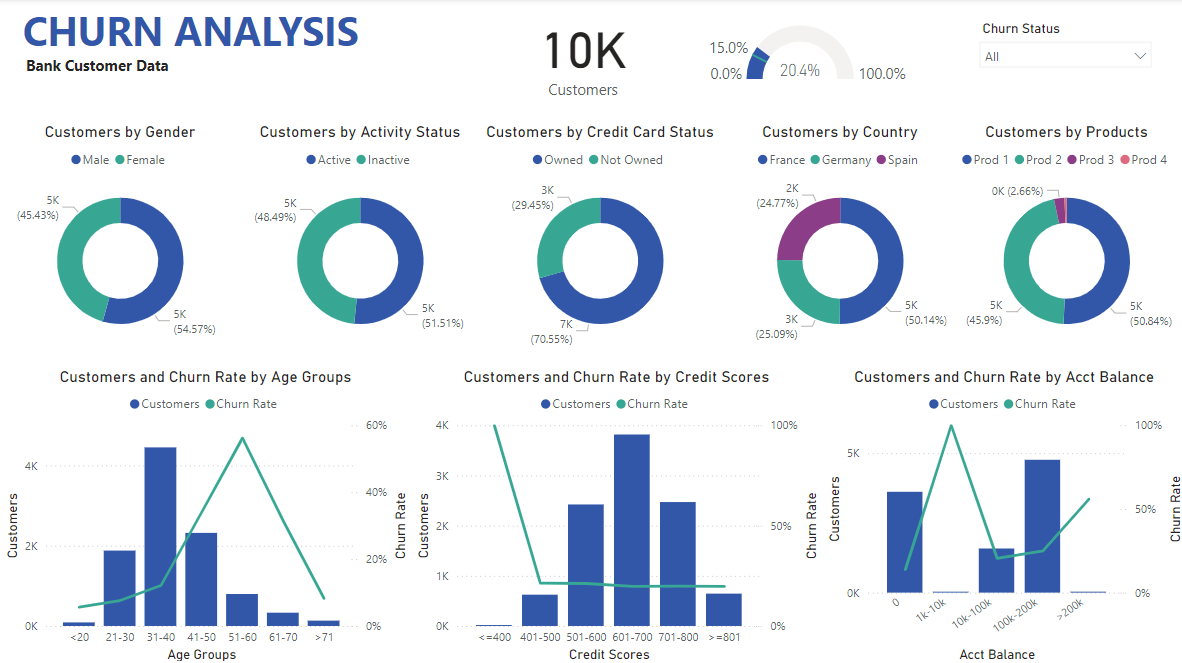

The dashboard page shown, as its layout file describes it:
{"tool":"powerbi","page":{"name":"Bank Customer Data Churn Analysis","canvas":[1280,720],"ordinal":0},"visuals":[{"type":"card","fields":{"Values":["Customer Data.Customers"]},"box":[553.8,4.9,150.6,110.1],"z":0},{"type":"donutChart","fields":{"Category":["Customer Data.Gender"],"Y":["Customer Data.Customers"]},"box":[0,134.4,259.1,249.4],"z":1000},{"type":"donutChart","fields":{"Category":["Customer Data.Activity Status"],"Y":["Customer Data.Customers"]},"box":[259.1,134.4,259.1,249.4],"z":2000},{"type":"donutChart","fields":{"Y":["Customer Data.Customers"],"Category":["Customer Data.Credit Card Status"]},"box":[518.2,134.4,259.1,249.4],"z":3000},{"type":"donutChart","fields":{"Y":["Customer Data.Customers"],"Category":["Customer Data.Country"]},"box":[777.2,134.4,259.1,249.4],"z":4000},{"type":"donutChart","fields":{"Y":["Customer Data.Customers"],"Category":["Customer Data.Products"]},"box":[1021.7,134.4,259.1,249.4],"z":5000},{"type":"lineStackedColumnComboChart","fields":{"Y":["Customer Data.Customers"],"Y2":["Customer Data.Churn Rate"],"Category":["Age Groups.Age Groups"]},"box":[0,398.3,443.7,322.2],"z":6000},{"type":"lineStackedColumnComboChart","fields":{"Y":["Customer Data.Customers"],"Y2":["Customer Data.Churn Rate"],"Category":["Credit Score Groups.Credit Scores"]},"box":[443.7,398.3,443.7,322.2],"z":7000},{"type":"lineStackedColumnComboChart","fields":{"Y":["Customer Data.Customers"],"Y2":["Customer Data.Churn Rate"],"Category":["Acct Balance Groups.Acct Balance"]},"box":[887.3,398.3,393.5,322.2],"z":8000},{"type":"slicer","fields":{"Values":["Customer Data.Churn Status"]},"box":[1047.6,19.4,205.6,82.6],"z":9000},{"type":"gauge","fields":{"Y":["Customer Data.Churn Rate"],"MinValue":["Min(Customer Data.Min Churn Rate)"],"MaxValue":["Max(Customer Data.Max Churn Rate)"],"TargetValue":["Min(Customer Data.Target Churn Rate)"]},"box":[722.2,24.3,299.6,72.9],"z":10000},{"type":"textbox","box":[19.4,0,498.7,134.4],"z":11000}]}

Visuals, with their boxes in screenshot pixels (x1, y1, x2, y2), scaled from the page's 1280x720 canvas onto the 1182x663 screenshot:
card - Customer Data.Customers: bbox(511, 5, 650, 106)
donutChart - Customer Data.Gender x Customer Data.Customers: bbox(0, 124, 239, 353)
donutChart - Customer Data.Activity Status x Customer Data.Customers: bbox(239, 124, 479, 353)
donutChart - Customer Data.Customers x Customer Data.Credit Card Status: bbox(479, 124, 718, 353)
donutChart - Customer Data.Customers x Customer Data.Country: bbox(718, 124, 957, 353)
donutChart - Customer Data.Customers x Customer Data.Products: bbox(943, 124, 1181, 353)
lineStackedColumnComboChart - Customer Data.Customers x Customer Data.Churn Rate: bbox(0, 367, 410, 662)
lineStackedColumnComboChart - Customer Data.Customers x Customer Data.Churn Rate: bbox(410, 367, 819, 662)
lineStackedColumnComboChart - Customer Data.Customers x Customer Data.Churn Rate: bbox(819, 367, 1181, 662)
slicer - Customer Data.Churn Status: bbox(967, 18, 1157, 94)
gauge - Customer Data.Churn Rate x Min(Customer Data.Min Churn Rate): bbox(667, 22, 944, 90)
textbox: bbox(18, 0, 478, 124)
